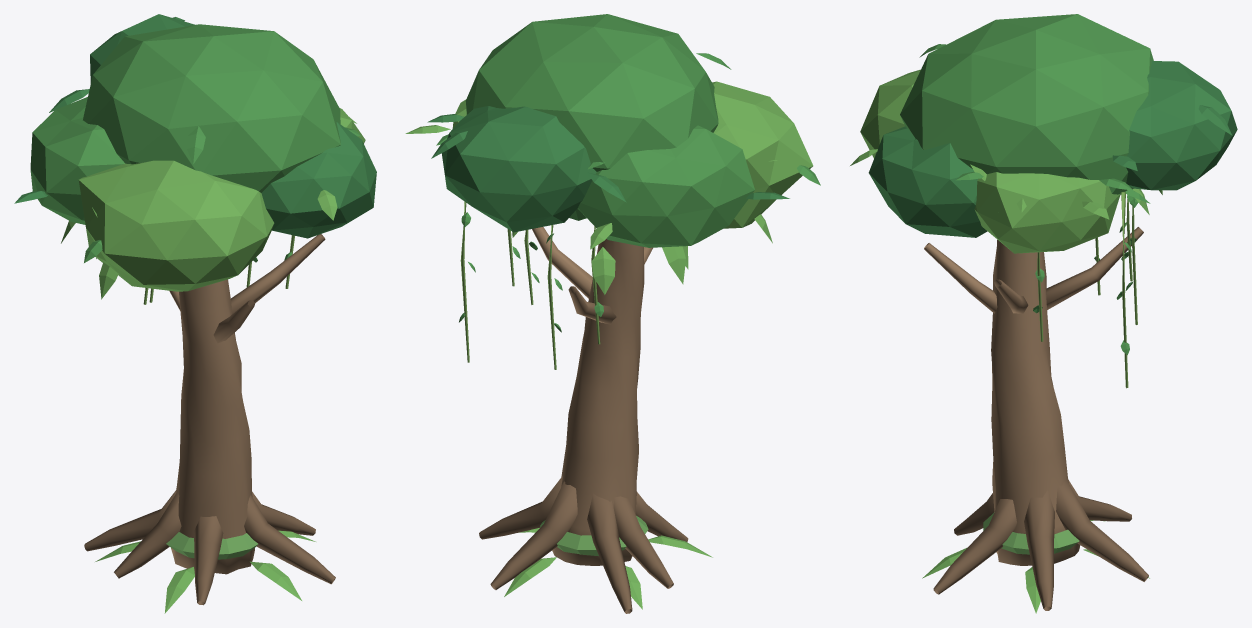
File: tree_3.glb
3 renders of one model, left to right at view 1: azimuth 30°, elevation 25°; view 2: azimuth 150°, elevation 25°; view 3: azimuth 270°, elevation 25°, orthographic.
Parts seen in each view (by area): view 1: tube; view 2: tube; view 3: tube.
Boxes of the visible parts, x1=… form: tube: x1=14, y1=14, x2=376, y2=613; tube: x1=405, y1=14, x2=820, y2=613; tube: x1=850, y1=14, x2=1237, y2=613.
Bounding box in the file's own units: 5.79 × 8.45 × 5.58.
